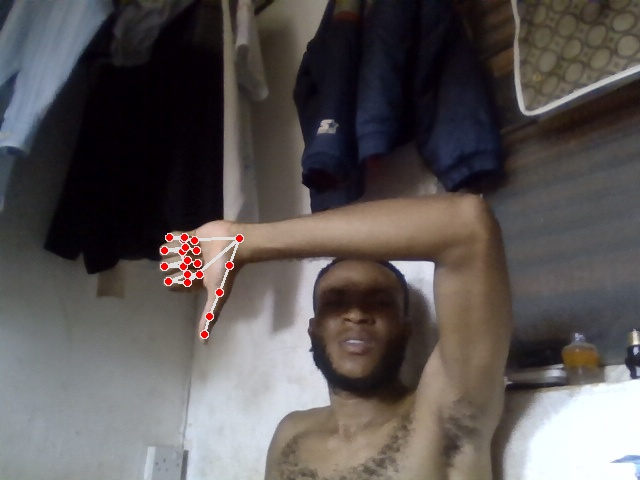thumbsdown: (159, 219, 252, 345)
